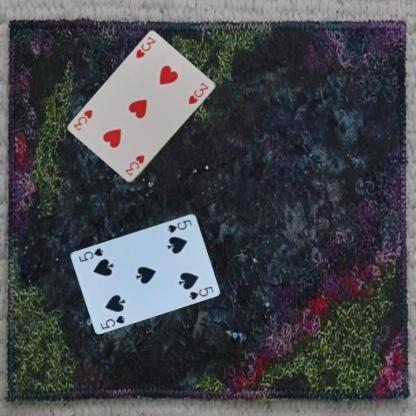3h: (122, 152, 146, 178), (134, 34, 156, 60)
5s: (98, 312, 127, 330), (165, 217, 193, 234)
